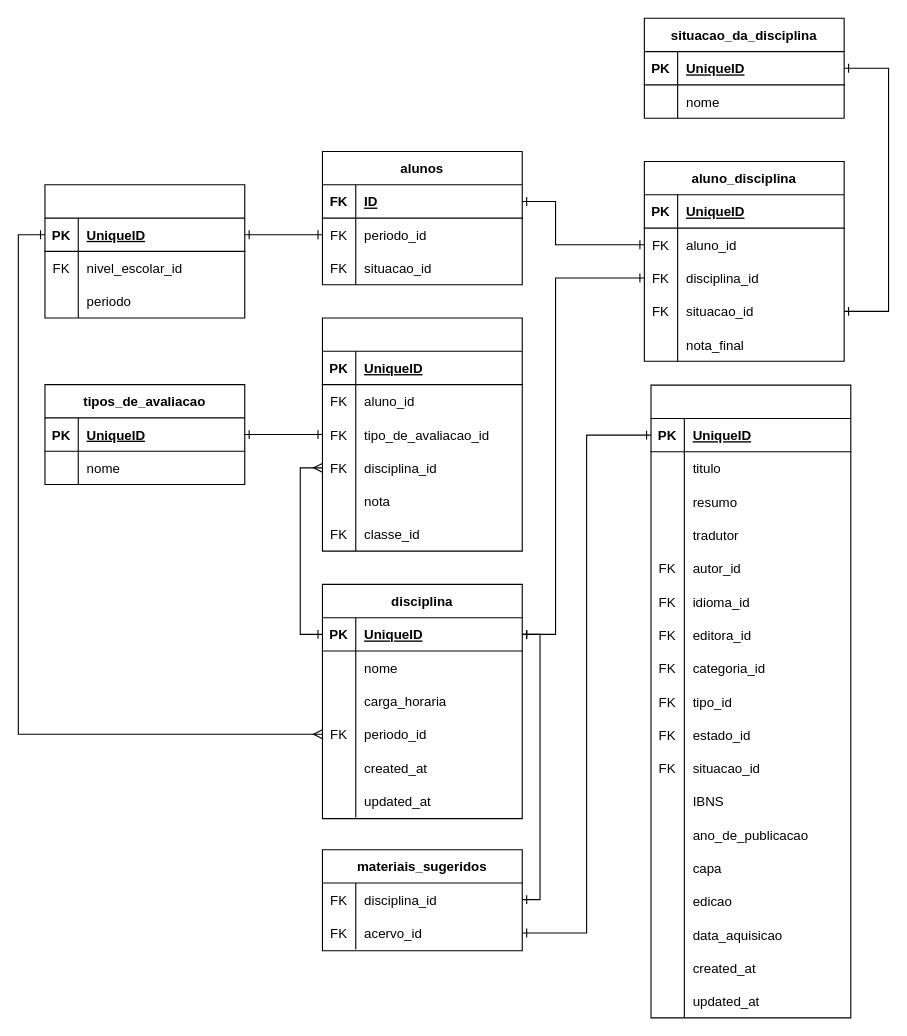
The diagram is 907 pixels wide and 1036 high, and some of its shapes have lost their labels. The box of each missing label's shape, as (x1, y1, x2, y2) in pixels:
acervos: (650, 384, 851, 1018)
notas: (321, 317, 522, 551)
periodos: (44, 184, 245, 318)
